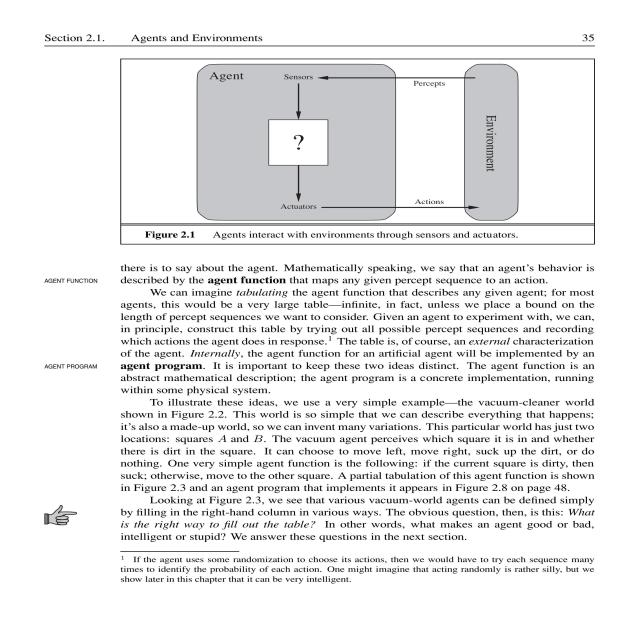diagram: (122, 56, 640, 244)
